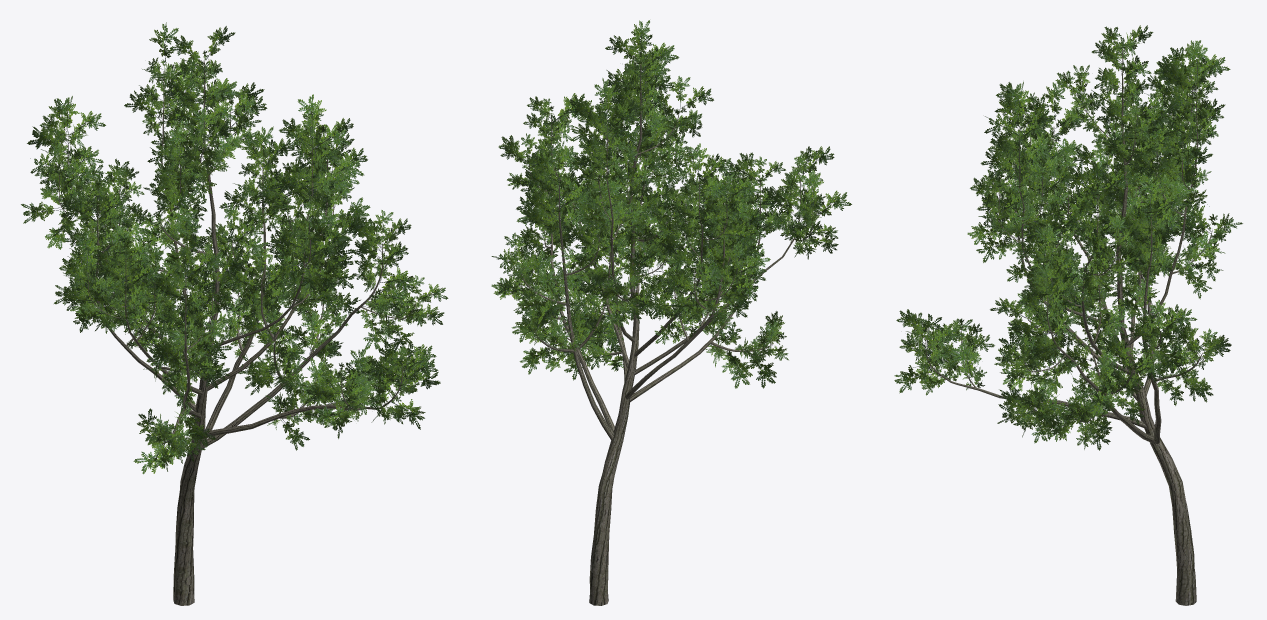
File: ash_small_01.glb
The picture shows the model from 3 angles, left to right: view 1: azimuth 30°, elevation 25°; view 2: azimuth 150°, elevation 25°; view 3: azimuth 270°, elevation 25°; orthographic projection. The views are drawn at different scales.
Parts seen in each view (by area): view 1: Tree; view 2: Tree; view 3: Tree.
Boxes of the visible parts, x1,y1,x2,y2 form: Tree: (21, 22, 448, 605); Tree: (491, 20, 851, 605); Tree: (894, 25, 1242, 605).
Size of the model in its own units: 32.43 by 49.44 by 28.02.
2 materials, 2 textured.
